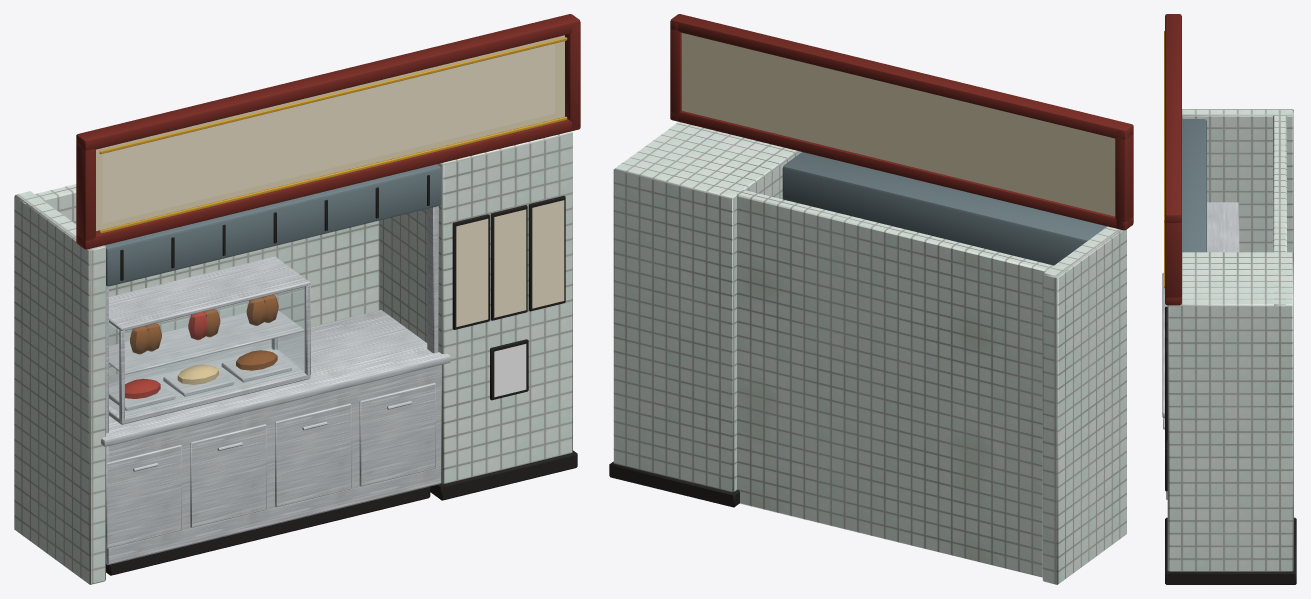
The model's file is stall_front.glb.
The picture shows the model from 3 angles, left to right: view 1: azimuth 30°, elevation 25°; view 2: azimuth 150°, elevation 25°; view 3: azimuth 270°, elevation 25°; orthographic projection. The views are drawn at different scales.
Parts seen in each view (by area): view 1: stall_front__wall_tile, stall_front__steel_brushed, SIGN_main, stall_front__paint_maroon, stall_front__glass, stall_front__paint_shutter, stall_front__rubber_black, stall_front__paint_cream, stall_front__paint_gold, SIGN_menu_2, SIGN_menu_3, SIGN_menu_1 (+3 smaller); view 2: stall_front__wall_tile, stall_front__paint_cream, stall_front__paint_maroon, stall_front__paint_shutter, stall_front__rubber_black; view 3: stall_front__wall_tile, stall_front__paint_maroon, stall_front__paint_shutter, stall_front__rubber_black, stall_front__steel_brushed, stall_front__paint_gold.
Boxes of the visible parts, x1,y1,x2,y2 form: stall_front__wall_tile: (14, 131, 572, 584); stall_front__steel_brushed: (101, 206, 450, 564); SIGN_main: (102, 43, 554, 223); stall_front__paint_maroon: (76, 14, 580, 249); stall_front__glass: (109, 287, 304, 415); stall_front__paint_shutter: (105, 164, 441, 286); stall_front__rubber_black: (106, 175, 577, 575); stall_front__paint_cream: (96, 35, 564, 230); stall_front__paint_gold: (99, 37, 567, 233); SIGN_menu_2: (494, 209, 526, 317); SIGN_menu_3: (532, 200, 564, 308); SIGN_menu_1: (456, 218, 488, 326); stall_front__wall_tile: (613, 122, 1126, 584); stall_front__paint_cream: (681, 33, 1115, 216); stall_front__paint_maroon: (670, 14, 1133, 230); stall_front__paint_shutter: (782, 152, 1107, 265); stall_front__rubber_black: (609, 461, 739, 507); stall_front__wall_tile: (1167, 109, 1293, 571); stall_front__paint_maroon: (1165, 14, 1181, 305); stall_front__paint_shutter: (1182, 119, 1206, 252); stall_front__rubber_black: (1165, 306, 1296, 584); stall_front__steel_brushed: (1162, 202, 1239, 499); stall_front__paint_gold: (1164, 31, 1164, 288).
Size of the model in its own units: 3.4 by 2.93 by 0.96.
16 materials, 2 textured.
